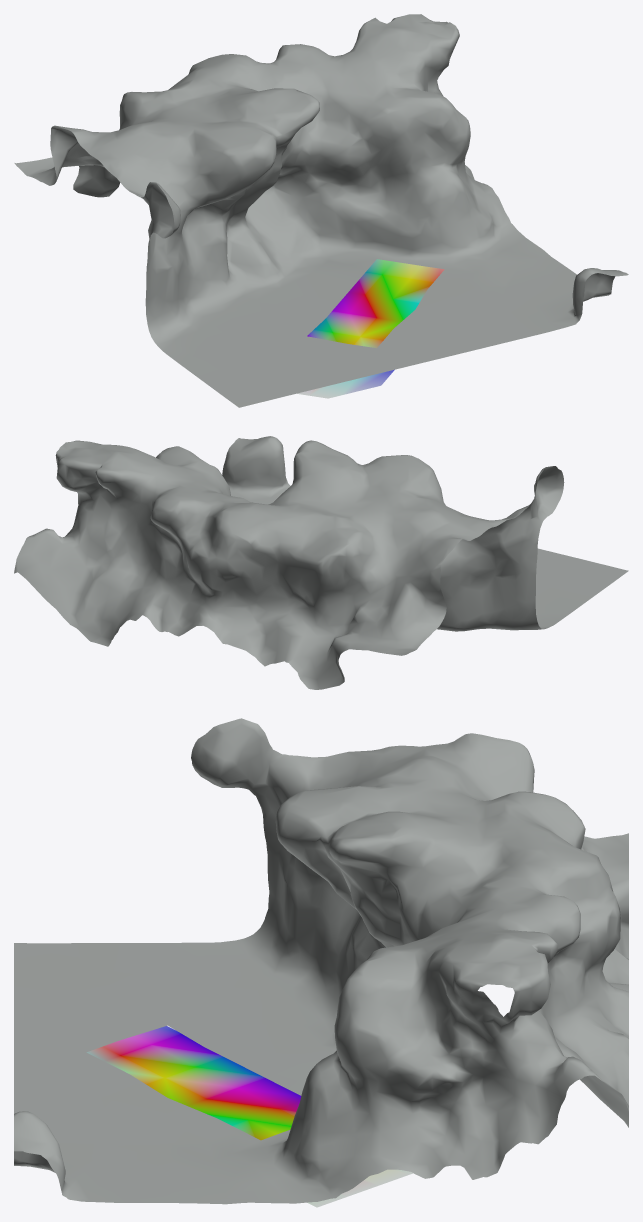
The picture shows the model from 3 angles, top to bottom: view 1: azimuth 30°, elevation 25°; view 2: azimuth 150°, elevation 25°; view 3: azimuth 270°, elevation 25°; orthographic projection. The views are drawn at different scales.
Parts seen in each view (by area): view 1: G:\FFXIV-MapTools\exports\l1f1\bg\ffxiv\lak_l1\fld\l1f1\bgpl (×12); view 2: G:\FFXIV-MapTools\exports\l1f1\bg\ffxiv\lak_l1\fld\l1f1\bgpl (×10); view 3: G:\FFXIV-MapTools\exports\l1f1\bg\ffxiv\lak_l1\fld\l1f1\bgpl (×12).
Part boxes in pixels (x1=…): G:\FFXIV-MapTools\exports\l1f1\bg\ffxiv\lak_l1\fld\l1f1\bgpl (×12): x1=14, y1=14, x2=628, y2=407; G:\FFXIV-MapTools\exports\l1f1\bg\ffxiv\lak_l1\fld\l1f1\bgpl (×10): x1=14, y1=436, x2=628, y2=689; G:\FFXIV-MapTools\exports\l1f1\bg\ffxiv\lak_l1\fld\l1f1\bgpl (×12): x1=14, y1=718, x2=628, y2=1207.
Bounding box in the file's own units: 128 × 57.84 × 128.
